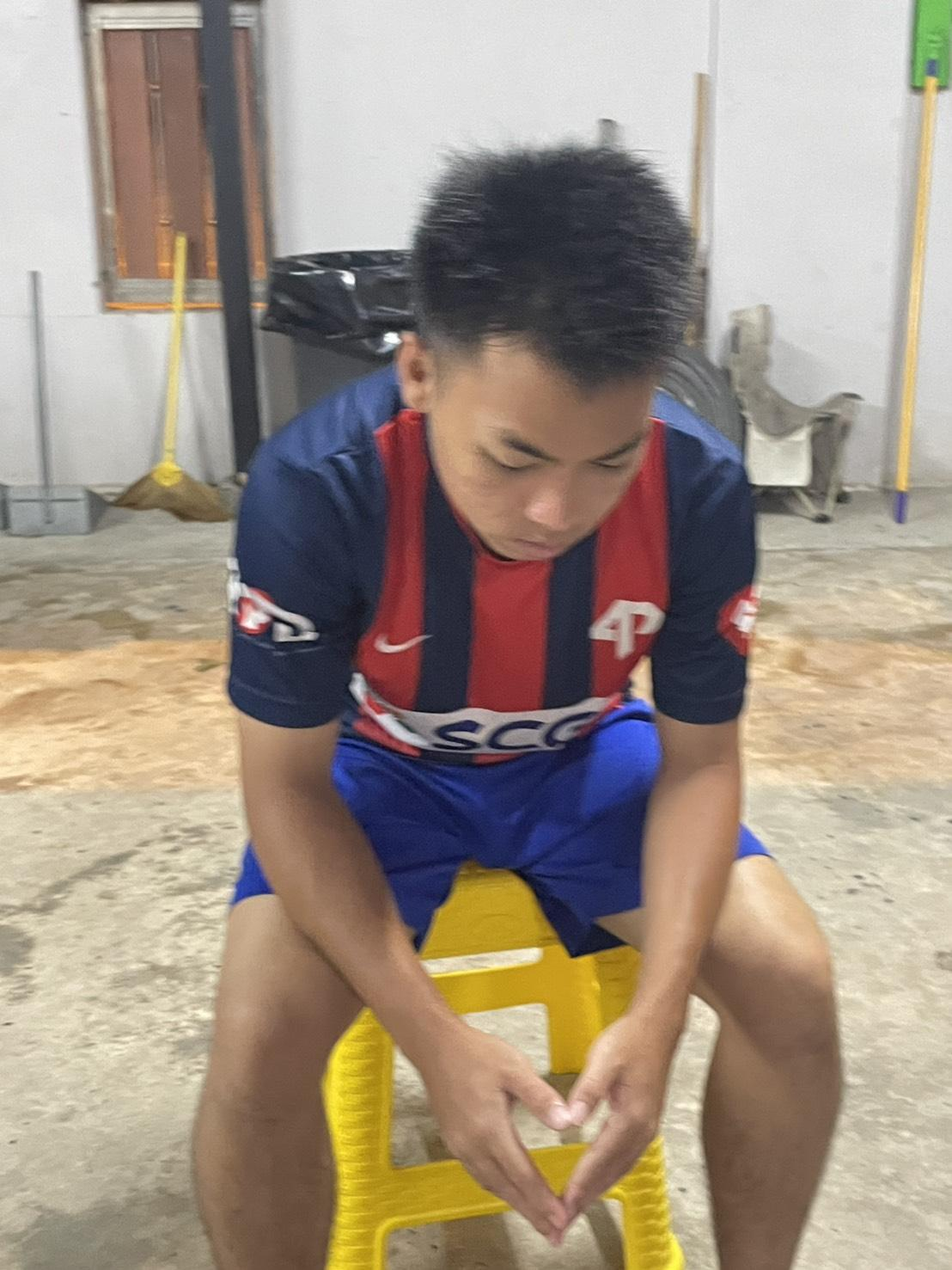BadPosture: (229, 145, 757, 764)
